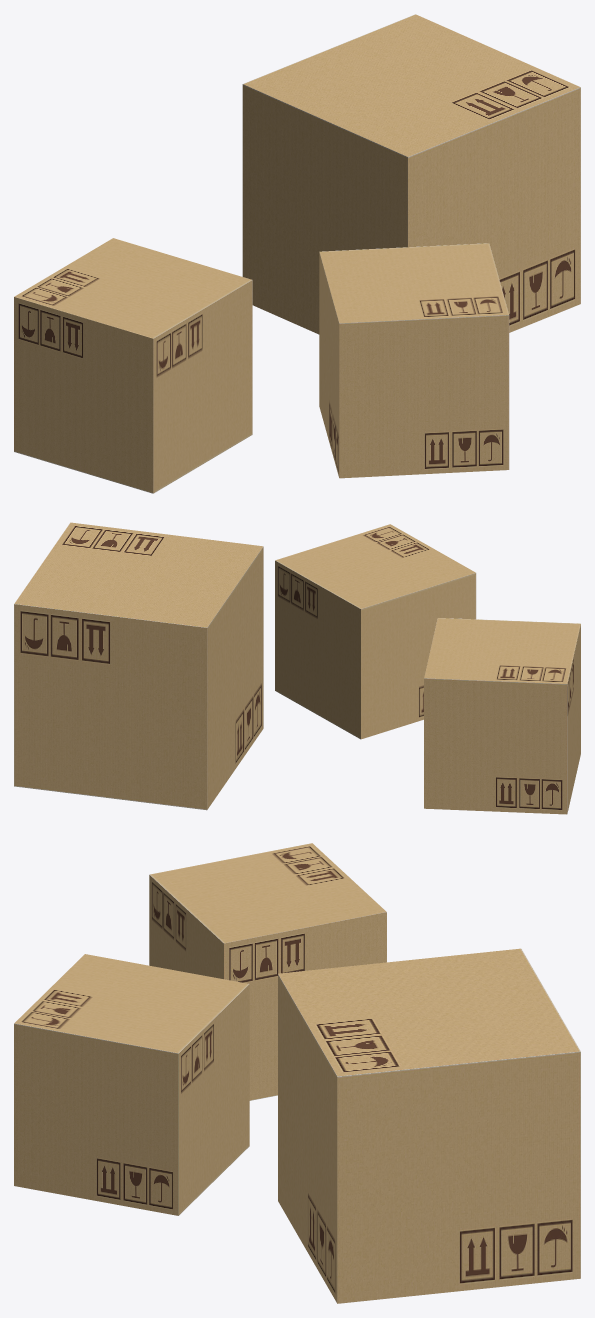
The model's file is Fragile boxes.fbx.
3 views of the same model, one above another, from view 1: azimuth 30°, elevation 25°; view 2: azimuth 150°, elevation 25°; view 3: azimuth 270°, elevation 25° (orthographic). The views are drawn at different scales.
Visible parts, largest first — view 1: pCube3, pCube6, pCube2; view 2: pCube3, pCube2, pCube6; view 3: pCube3, pCube2, pCube6.
Part boxes in pixels (bbox=[...]): pCube3: bbox=[242, 14, 580, 334]; pCube6: bbox=[14, 238, 252, 493]; pCube2: bbox=[319, 243, 509, 478]; pCube3: bbox=[14, 522, 263, 810]; pCube2: bbox=[275, 524, 476, 739]; pCube6: bbox=[424, 618, 580, 814]; pCube3: bbox=[278, 948, 580, 1303]; pCube2: bbox=[14, 954, 249, 1215]; pCube6: bbox=[149, 843, 386, 1100].
Bounding box in the file's own units: 12.89 × 4.61 × 10.43.
1 material, 1 textured.
